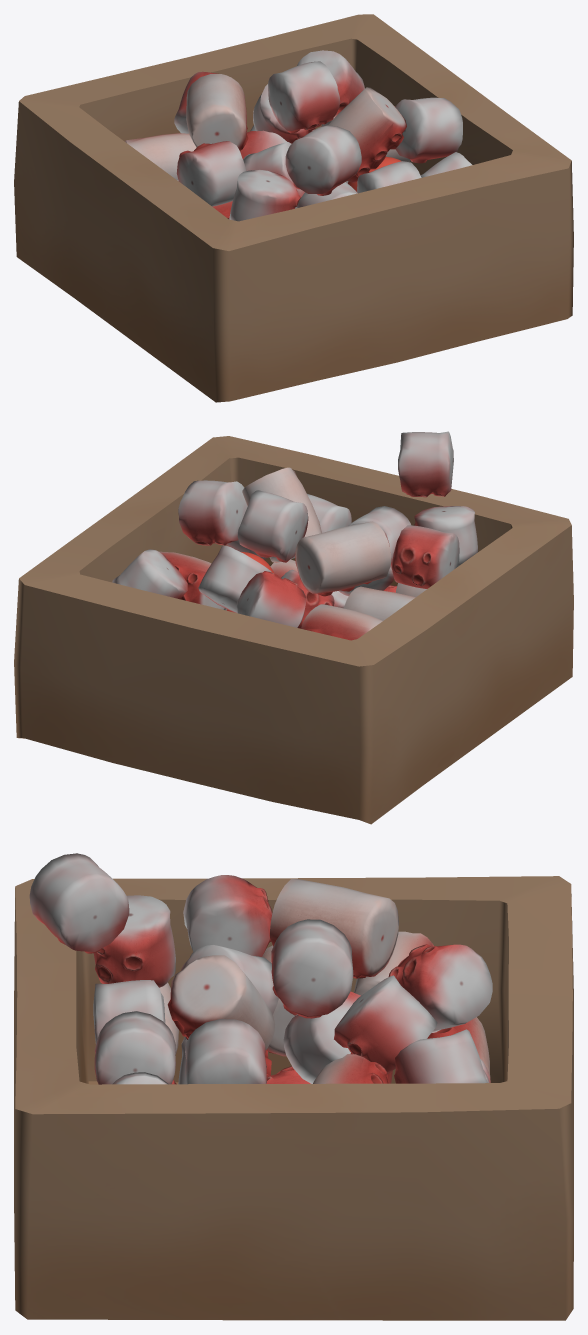
The model's file is OctopusOld.fbx.
3 views of the same model, one above another, from view 1: azimuth 30°, elevation 25°; view 2: azimuth 150°, elevation 25°; view 3: azimuth 270°, elevation 25° (orthographic). The views are drawn at different scales.
Parts seen in each view (by area): view 1: Box_low; view 2: Box_low; view 3: Box_low.
Part boxes in pixels (bbox=[...]): Box_low: bbox=[14, 14, 573, 402]; Box_low: bbox=[14, 431, 573, 824]; Box_low: bbox=[14, 853, 573, 1320].
Size of the model in its own units: 289 by 175 by 289.
